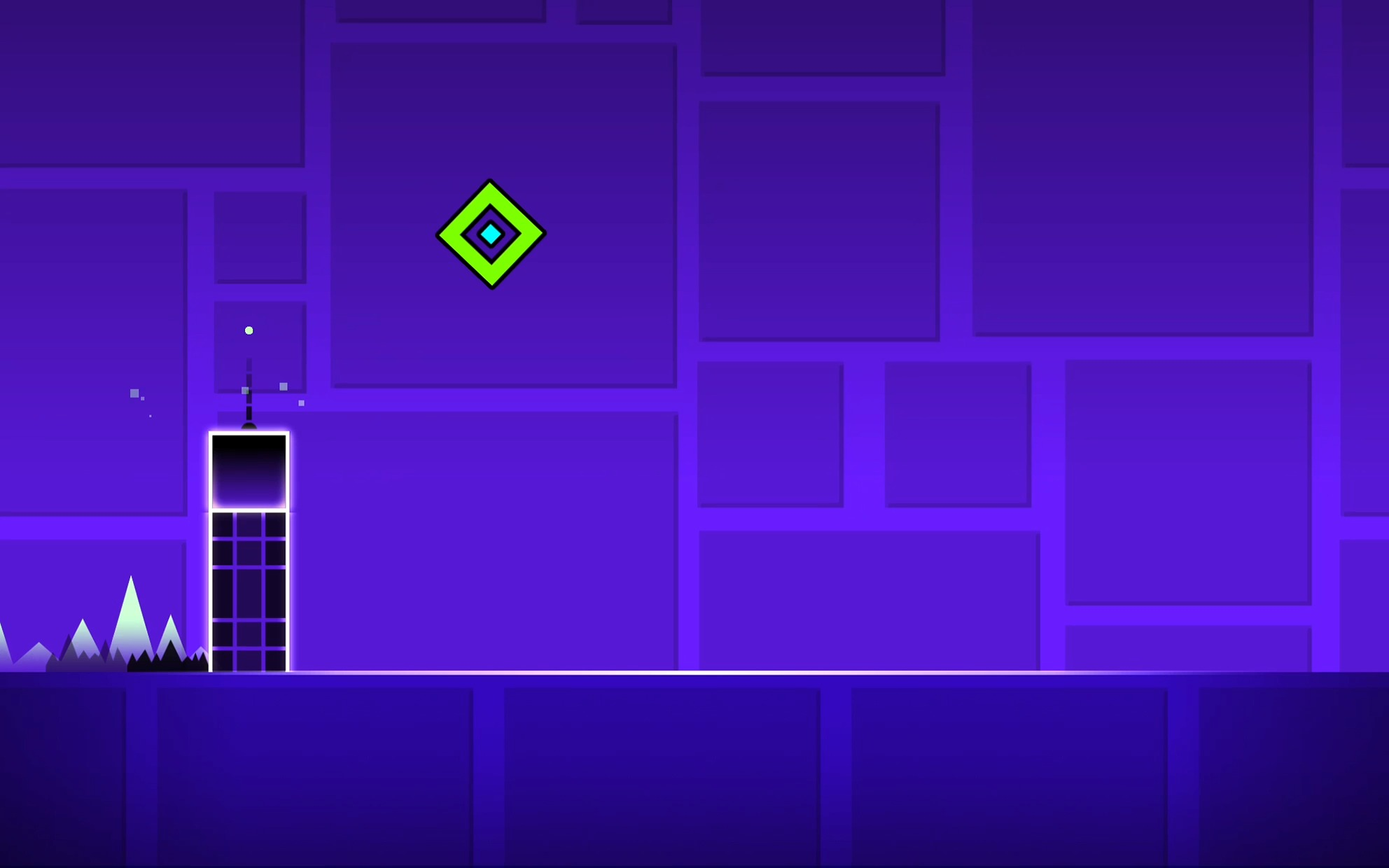Block: (208, 431, 288, 508)
Block2: (211, 512, 288, 675)
Player: (437, 179, 545, 286)
Spike3: (3, 644, 209, 673)
